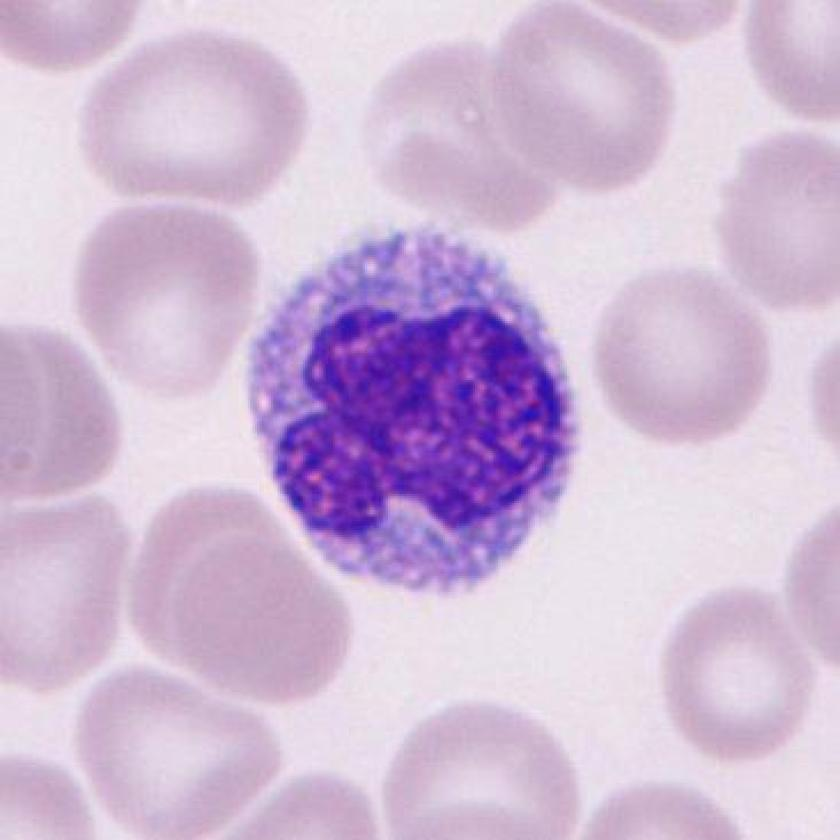monocyte: (224, 211, 607, 611)
